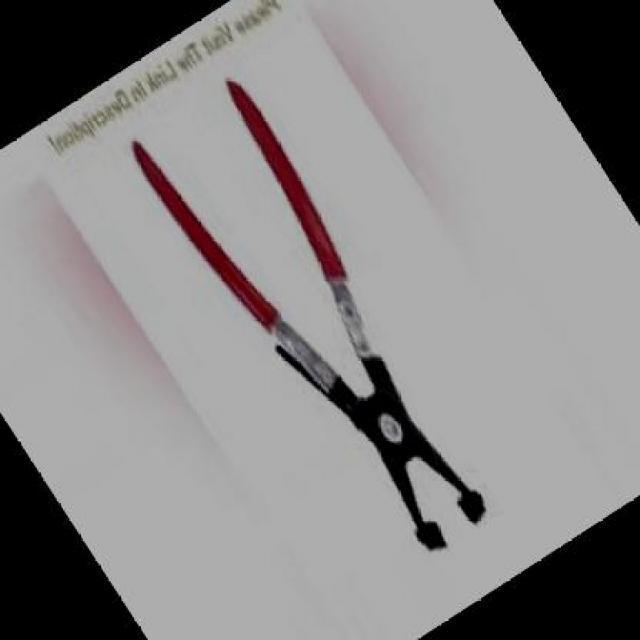pliers: (70, 47, 544, 616)
